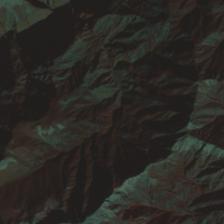landslides: (143, 212, 167, 224), (124, 194, 140, 205), (120, 207, 131, 221), (63, 192, 74, 205), (112, 201, 130, 207)
